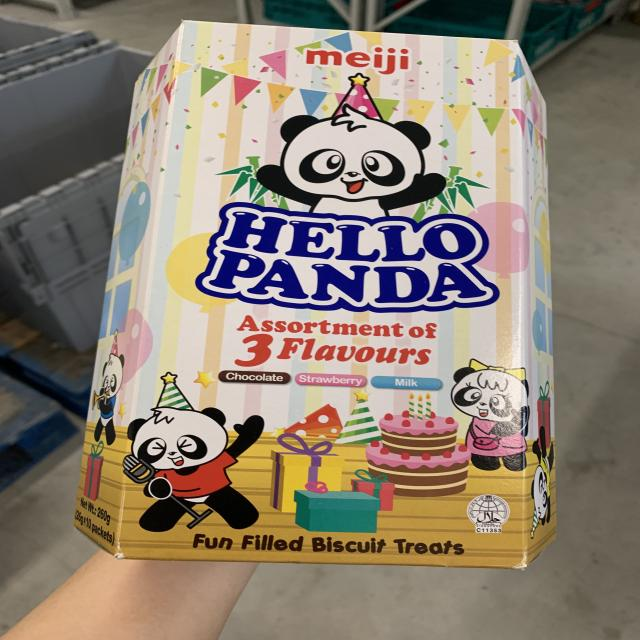object_name: (151, 33, 527, 568)
